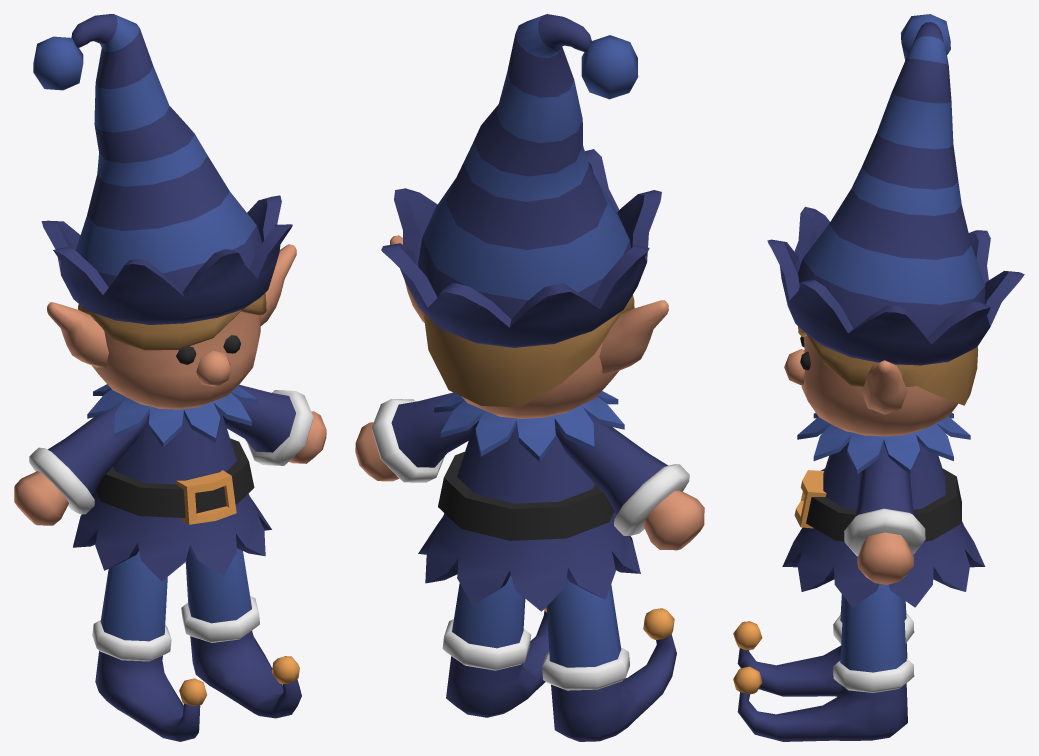
Rendered from Elf_01.fbx.
The picture shows the model from 3 angles, left to right: view 1: azimuth 30°, elevation 25°; view 2: azimuth 150°, elevation 25°; view 3: azimuth 270°, elevation 25°; orthographic projection. The views are drawn at different scales.
Parts seen in each view (by area): view 1: Elf_01_Head, Elf_01, Elf_01_Leg_R, Elf_01_Leg_L, Elf_01_Arm_R, Elf_01_Arm_L; view 2: Elf_01_Head, Elf_01, Elf_01_Leg_R, Elf_01_Leg_L, Elf_01_Arm_R, Elf_01_Arm_L; view 3: Elf_01_Head, Elf_01, Elf_01_Leg_L, Elf_01_Arm_L, Elf_01_Leg_R.
Part boxes in pixels (bbox=[...]): Elf_01_Head: bbox=[33, 14, 296, 409]; Elf_01: bbox=[73, 384, 271, 581]; Elf_01_Leg_R: bbox=[92, 551, 206, 741]; Elf_01_Leg_L: bbox=[181, 548, 301, 718]; Elf_01_Arm_R: bbox=[14, 404, 147, 525]; Elf_01_Arm_L: bbox=[222, 384, 326, 465]; Elf_01_Head: bbox=[381, 14, 668, 418]; Elf_01: bbox=[418, 391, 640, 611]; Elf_01_Leg_R: bbox=[542, 577, 676, 741]; Elf_01_Leg_L: bbox=[442, 575, 549, 717]; Elf_01_Arm_R: bbox=[555, 415, 704, 550]; Elf_01_Arm_L: bbox=[355, 392, 473, 482]; Elf_01_Head: bbox=[767, 14, 1024, 436]; Elf_01: bbox=[782, 413, 985, 607]; Elf_01_Leg_L: bbox=[733, 584, 914, 741]; Elf_01_Arm_L: bbox=[844, 444, 925, 584]; Elf_01_Leg_R: bbox=[733, 594, 914, 696].
Bounding box in the file's own units: 0.3694 × 0.7706 × 0.3069.
